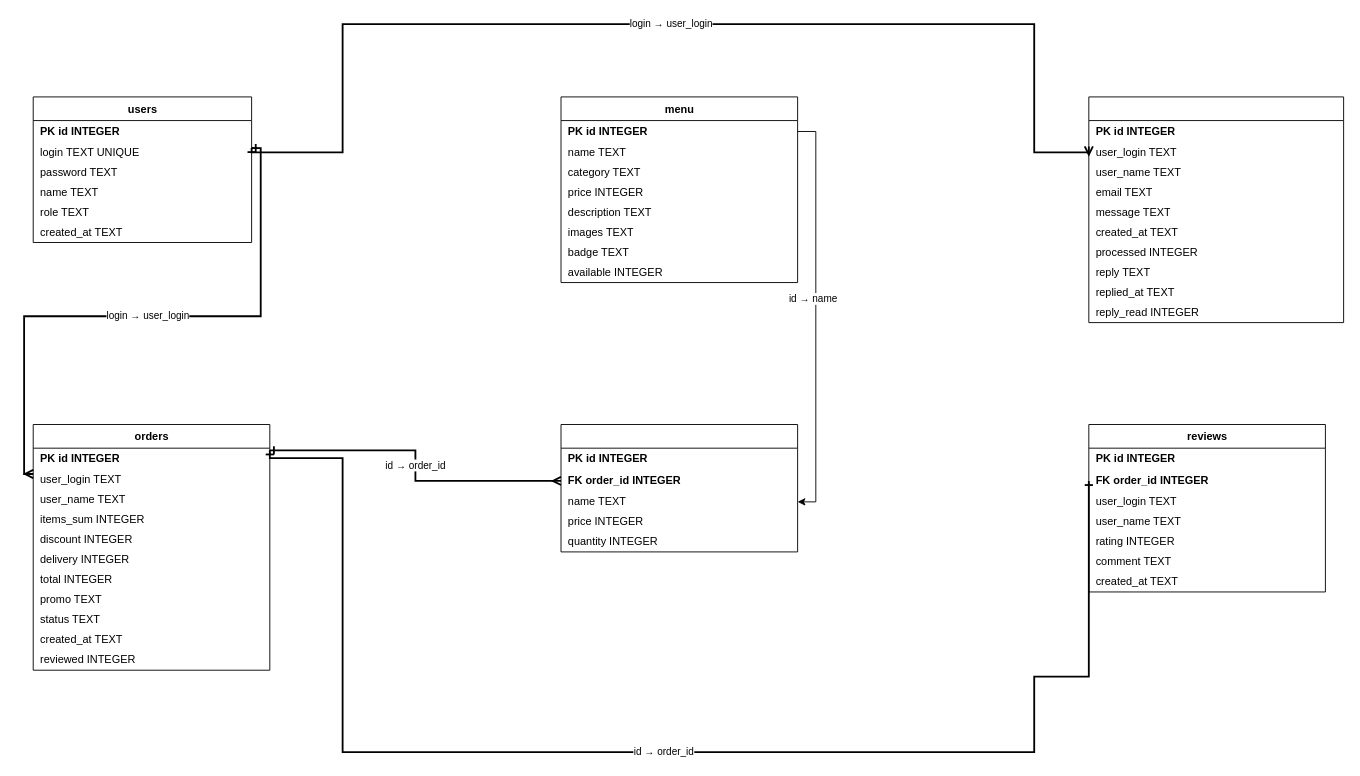
This 1360x776 diagram has some shape labels left out. The shapes that lost their labels are listed below. From the top down, each one's box as (x1, y1, x2, y2) in pixels, then its label:
(1088, 96, 1344, 323): feedback
(560, 424, 798, 552): order_items
